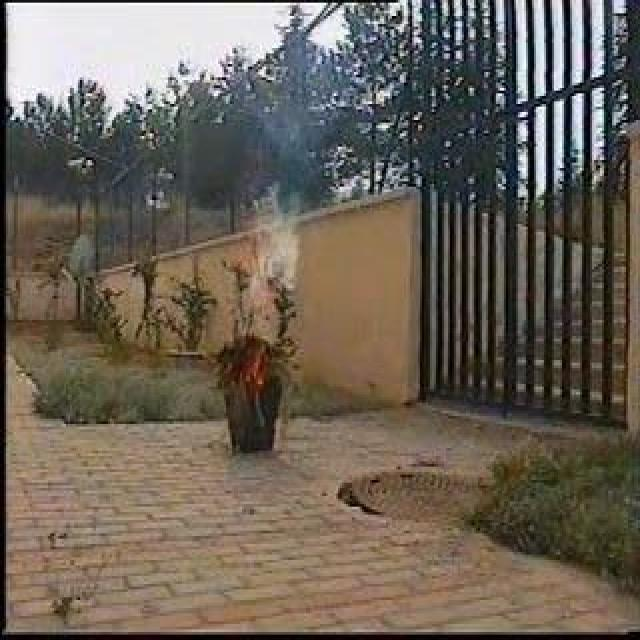fire: (240, 342, 278, 384)
